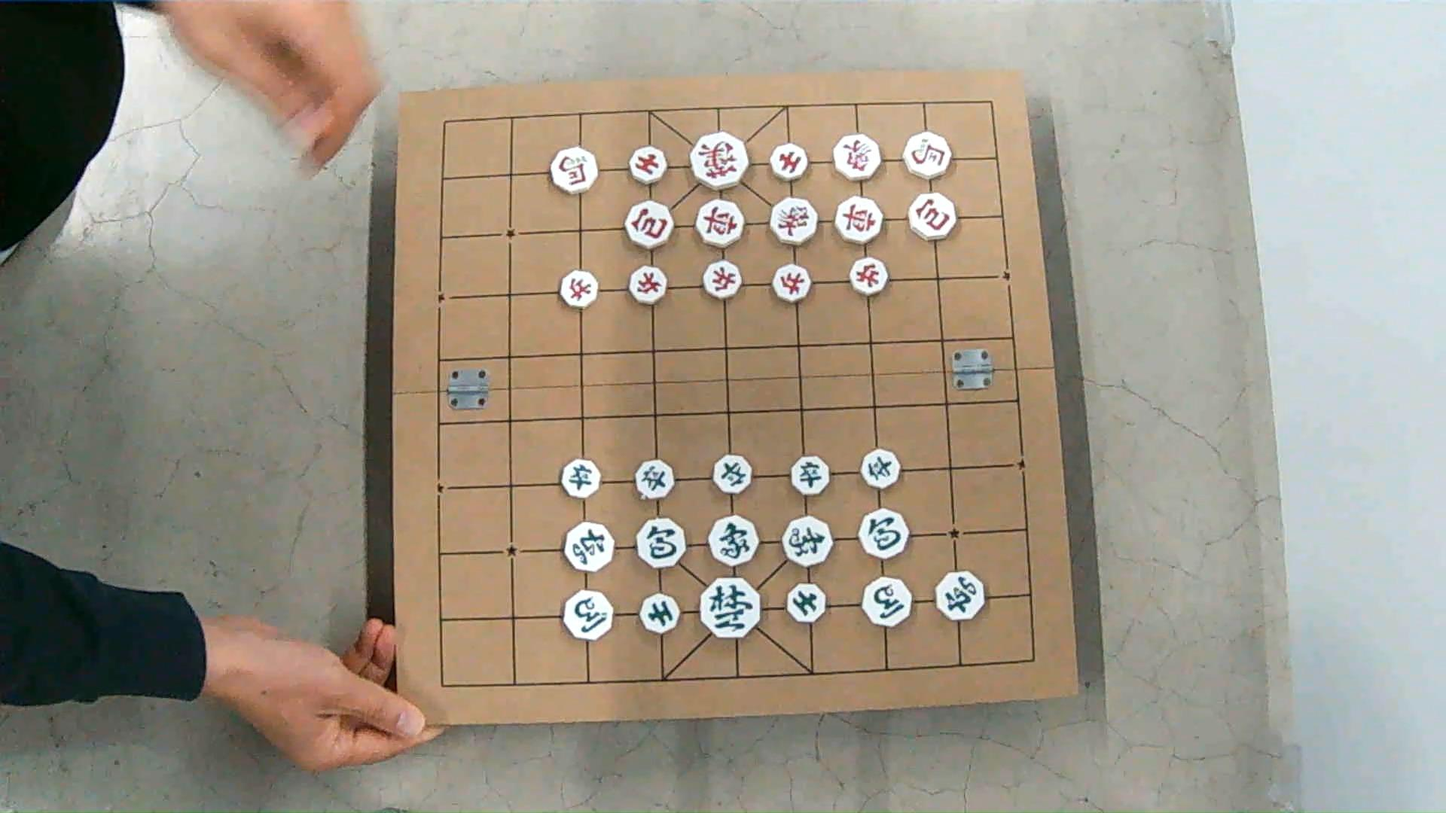cha_green: (563, 522, 613, 571), (935, 571, 984, 620)
cha_red: (835, 196, 882, 244), (697, 199, 743, 247)
jol_green: (560, 458, 599, 498), (636, 460, 674, 500), (861, 449, 899, 489), (790, 456, 828, 495), (714, 455, 752, 494)
jol_red: (628, 266, 666, 305), (772, 265, 810, 303), (849, 257, 887, 295), (703, 260, 740, 299), (559, 270, 596, 308)
ma_green: (862, 577, 911, 626), (563, 590, 611, 640)
ma_red: (903, 132, 950, 179), (551, 147, 597, 194)
po_green: (636, 519, 685, 568), (860, 510, 908, 559)
po_red: (624, 202, 673, 249), (908, 193, 955, 239)
sa_green: (640, 594, 679, 634), (787, 583, 825, 623)
sa_red: (629, 146, 667, 184), (770, 144, 807, 181)
sang_green: (782, 516, 831, 567), (709, 516, 758, 566)
sang_red: (770, 198, 817, 245), (833, 135, 880, 181)
wang_green: (700, 577, 760, 638)
wang_red: (691, 132, 748, 190)
